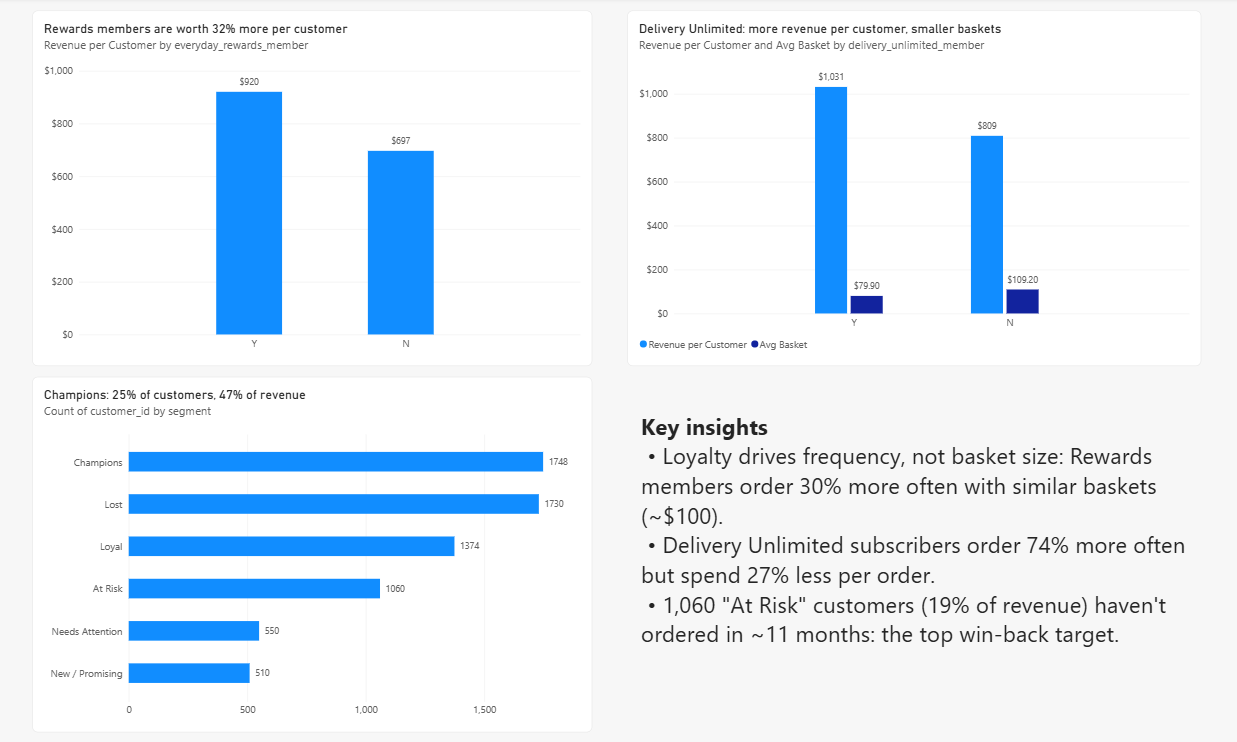

Layout of this report page (visuals, bound fields, positions):
{"tool":"powerbi","page":{"name":"Customers & Loyalty","canvas":[1920,1080],"ordinal":1},"visuals":[{"type":"clusteredColumnChart","title":"Rewards members are worth 32% more per customer","fields":{"Category":["vw_orders.everyday_rewards_member"],"Y":["vw_orders.Revenue per Customer"]},"box":[88,32,800,508],"z":0},{"type":"clusteredColumnChart","title":"Delivery Unlimited: more revenue per customer, smaller baskets","fields":{"Category":["vw_orders.delivery_unlimited_member"],"Y":["vw_orders.Revenue per Customer","vw_orders.Avg Basket"]},"box":[938,32,820,508],"z":1000},{"type":"clusteredBarChart","title":"Champions: 25% of customers, 47% of revenue","fields":{"Category":["vw_customer_segments.segment"],"Y":["CountNonNull(vw_customer_segments.customer_id)"]},"box":[88,556,800,508],"z":1001},{"type":"textbox","box":[958,604,800,442],"z":1002}]}

Visuals, with their boxes on the page's 1920x1080 design canvas (x1, y1, x2, y2). These are canvas units, not pixel positions in the 1237x742 screenshot, which may show the page scaled, cropped or inside an application window:
"Rewards members are worth 32% more per customer" clusteredColumnChart: pyautogui.locateOnScreen(88, 32, 888, 540)
"Delivery Unlimited: more revenue per customer, smaller baskets" clusteredColumnChart: pyautogui.locateOnScreen(938, 32, 1758, 540)
"Champions: 25% of customers, 47% of revenue" clusteredBarChart: pyautogui.locateOnScreen(88, 556, 888, 1064)
textbox: pyautogui.locateOnScreen(958, 604, 1758, 1046)
